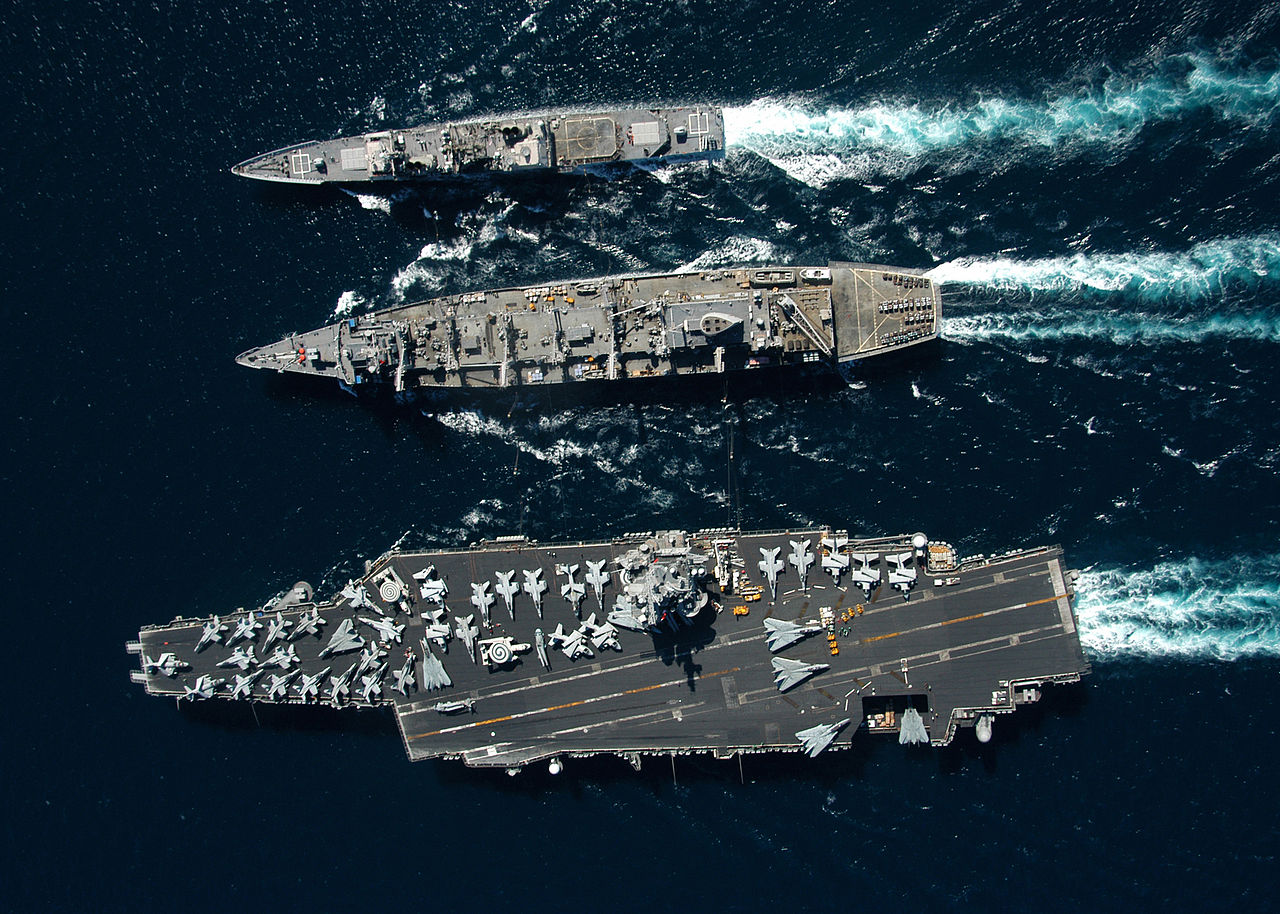ship: (123, 519, 1112, 762), (238, 268, 957, 378), (173, 95, 749, 192)
